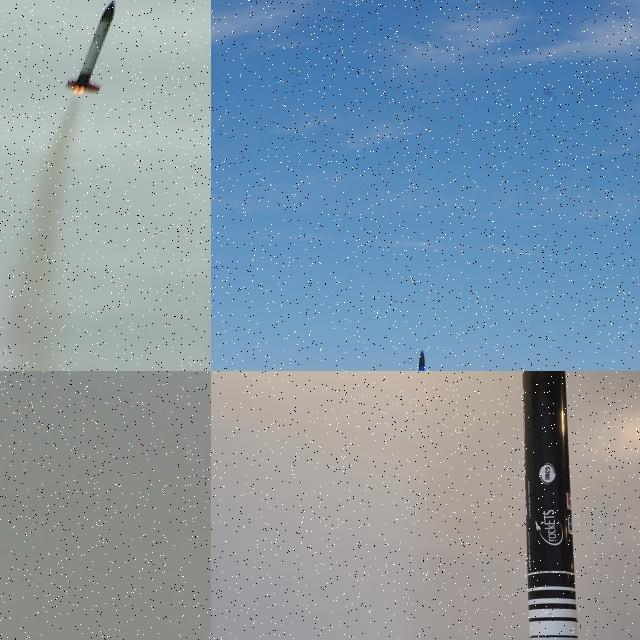Rocket: (522, 371, 579, 640), (66, 0, 116, 95), (407, 350, 431, 371)
